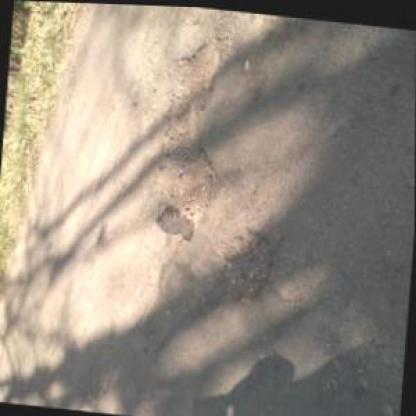pothole: (151, 25, 232, 230), (215, 219, 276, 307)
